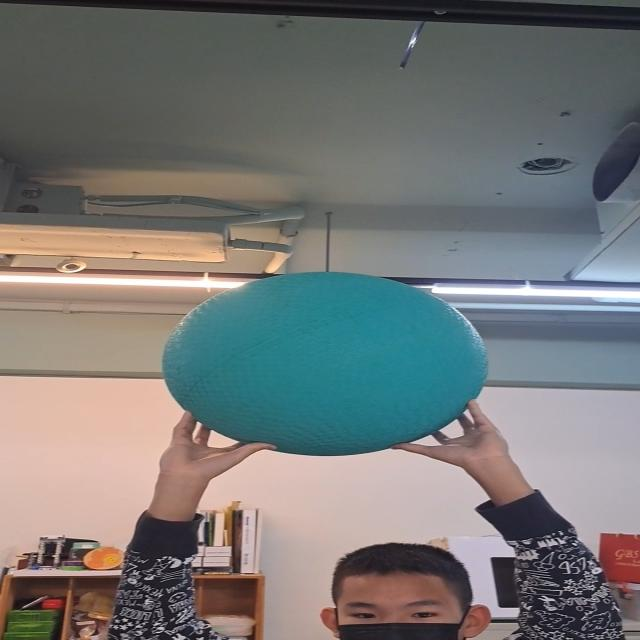ALGAE: (164, 272, 488, 456)
